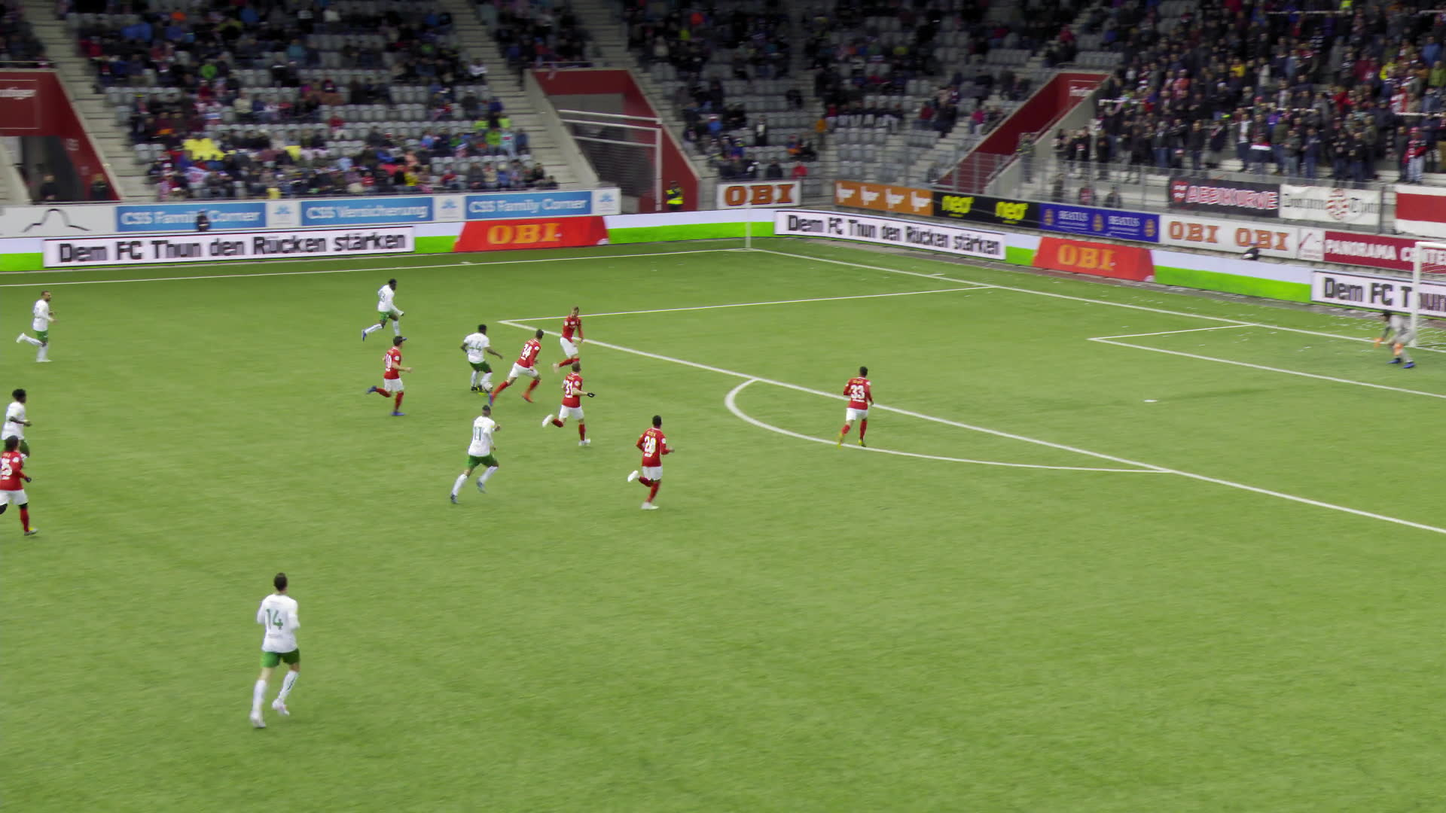ball: (488, 380, 495, 391)
player: (246, 572, 310, 730), (620, 410, 676, 509), (356, 333, 419, 419), (451, 402, 504, 504), (538, 361, 599, 446), (0, 430, 47, 535), (8, 286, 66, 364), (490, 327, 545, 409), (834, 364, 880, 460), (457, 319, 506, 395), (358, 275, 410, 346), (545, 302, 593, 376), (1374, 306, 1423, 369), (1, 385, 35, 466)
